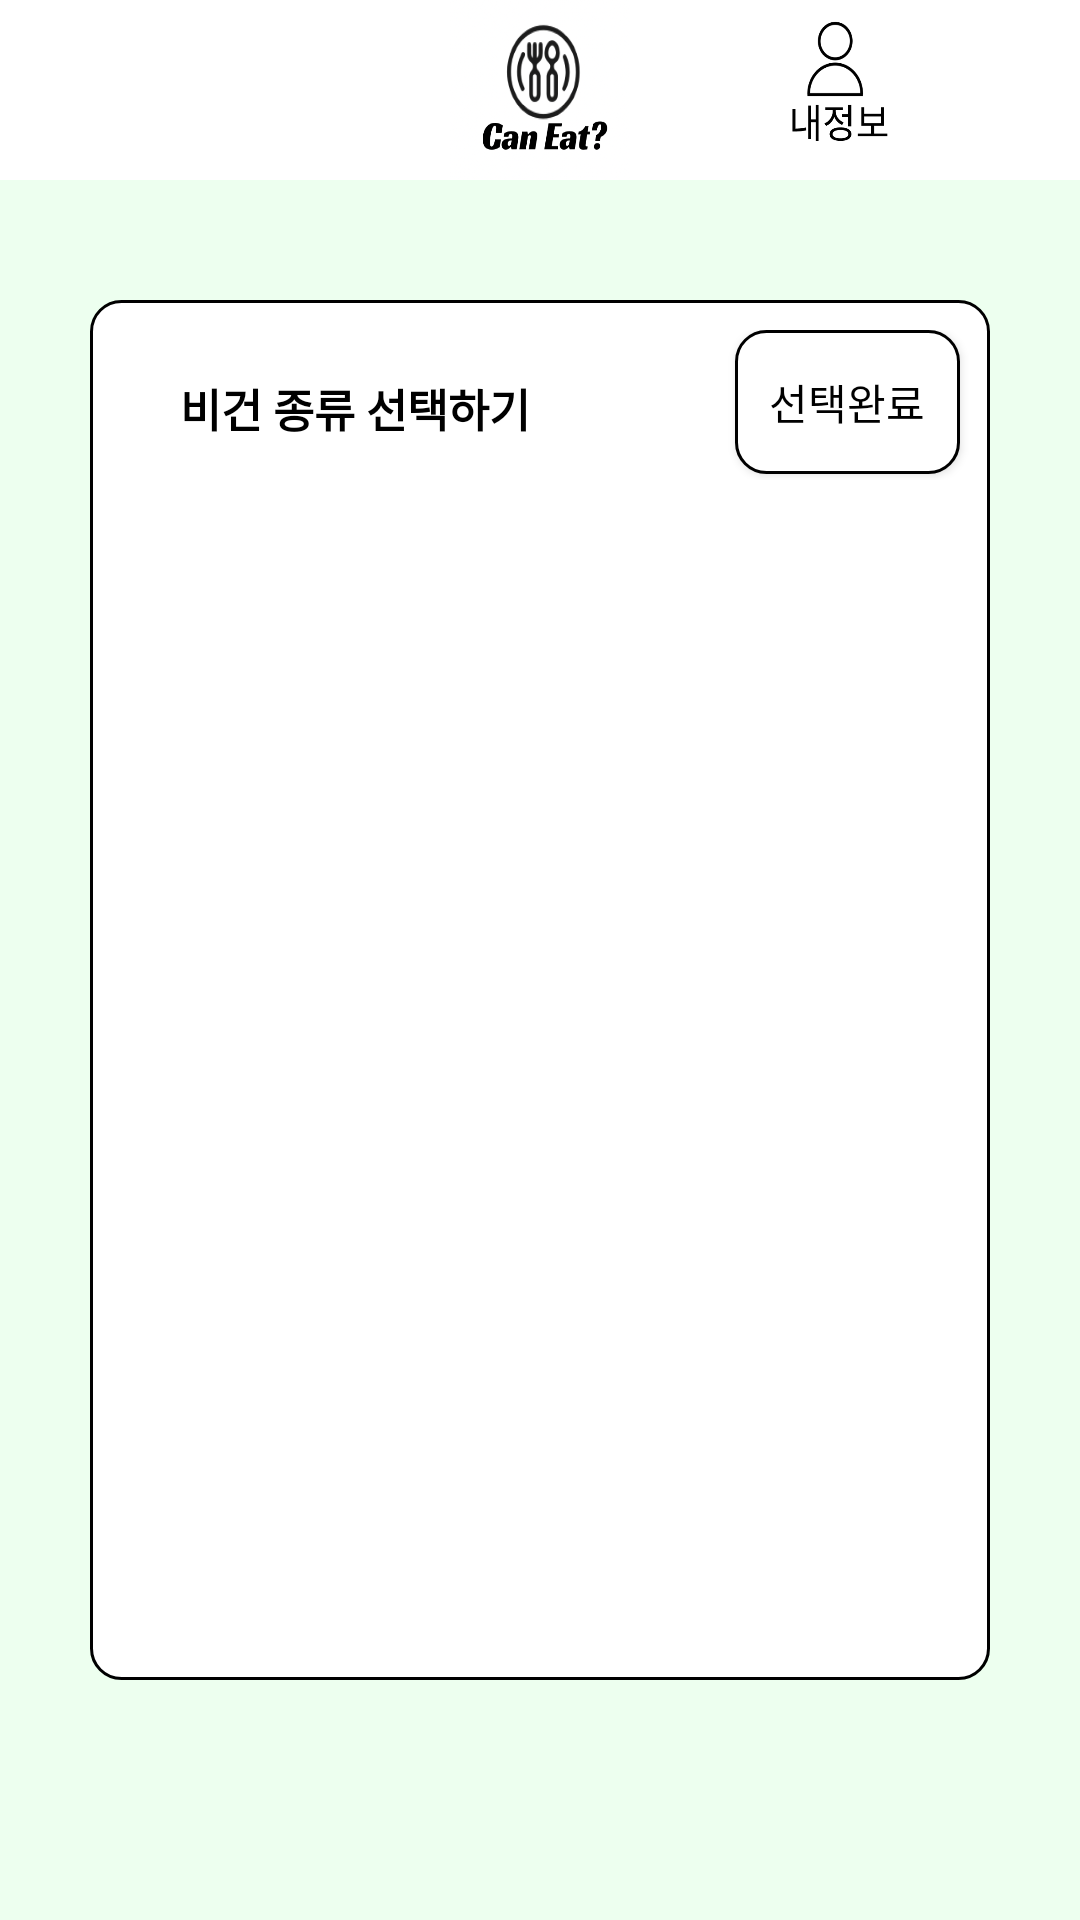

Where to tap for icons on this 1080px×1920px app screen, as point (x, y):
myicon: point (840, 81)
